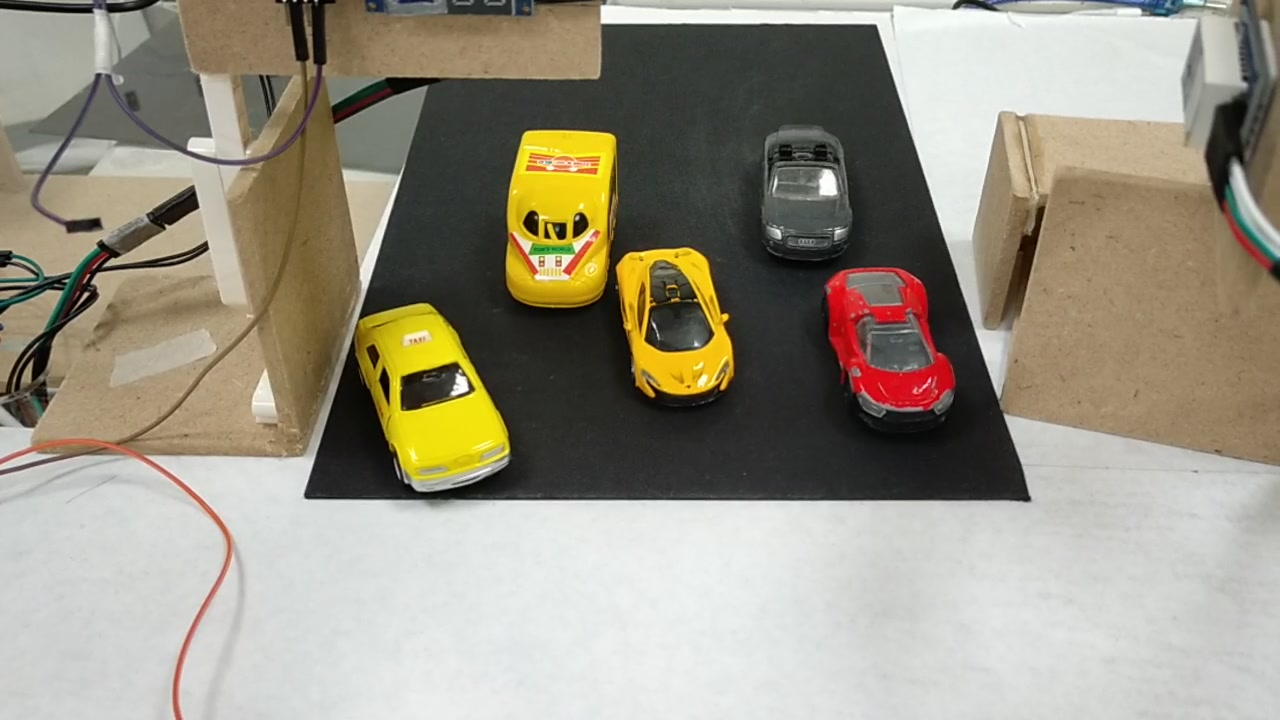car: (348, 309, 506, 491), (827, 268, 955, 421), (612, 252, 738, 405), (758, 124, 852, 261)
